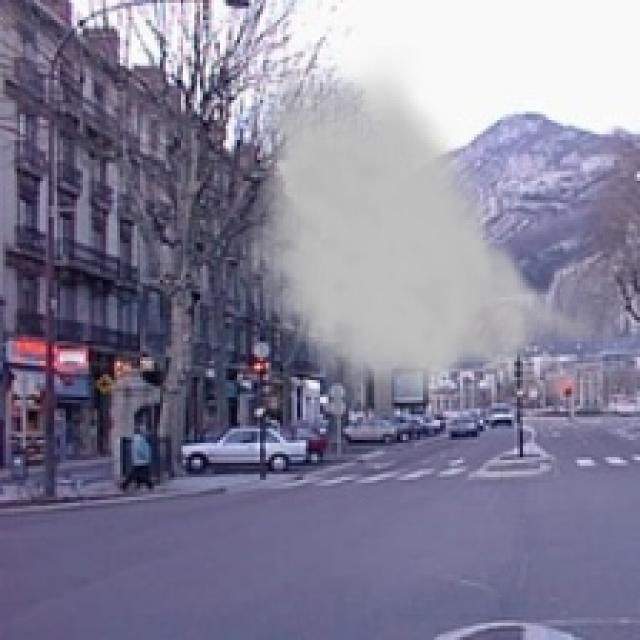smoke: (240, 46, 603, 417)
